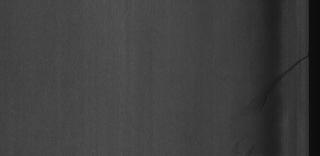water spot: (236, 47, 308, 123)
